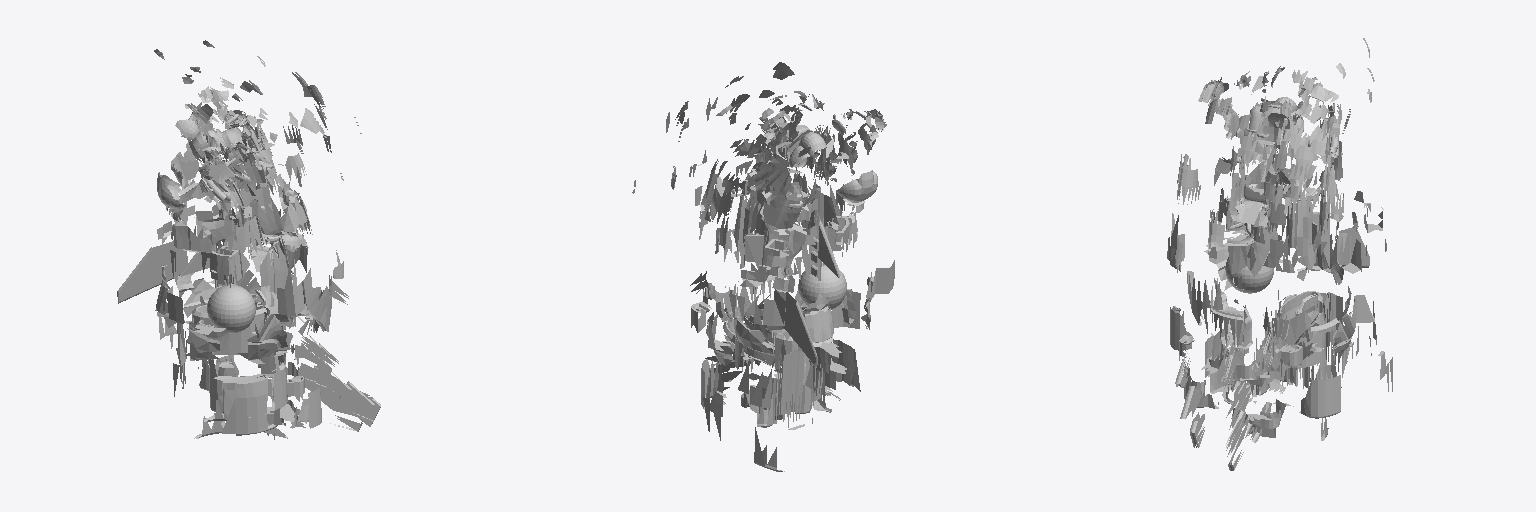
The model's file is explosion_000012.obj.
The picture shows the model from 3 angles: view 1: azimuth 30°, elevation 25°; view 2: azimuth 150°, elevation 25°; view 3: azimuth 270°, elevation 25°; orthographic projection.
Parts seen in each view (by area): view 1: Cube.021_Cube.048, Cube.004_Cube.001, Fireball_Sphere; view 2: Cube.021_Cube.048, Cube.004_Cube.001, Fireball_Sphere; view 3: Cube.021_Cube.048, Cube.004_Cube.001, Fireball_Sphere.
Part boxes in pixels (left/top/right/bottom): Cube.021_Cube.048: left=117, top=102, right=380, bottom=439; Cube.004_Cube.001: left=154, top=40, right=361, bottom=306; Fireball_Sphere: left=207, top=285, right=255, bottom=333; Cube.021_Cube.048: left=690, top=94, right=894, bottom=471; Cube.004_Cube.001: left=632, top=62, right=810, bottom=275; Fireball_Sphere: left=798, top=263, right=846, bottom=309; Cube.021_Cube.048: left=1170, top=67, right=1392, bottom=470; Cube.004_Cube.001: left=1167, top=38, right=1374, bottom=289; Fireball_Sphere: left=1225, top=257, right=1273, bottom=293.
Bounding box in the file's own units: 5.87 × 10.13 × 5.44.